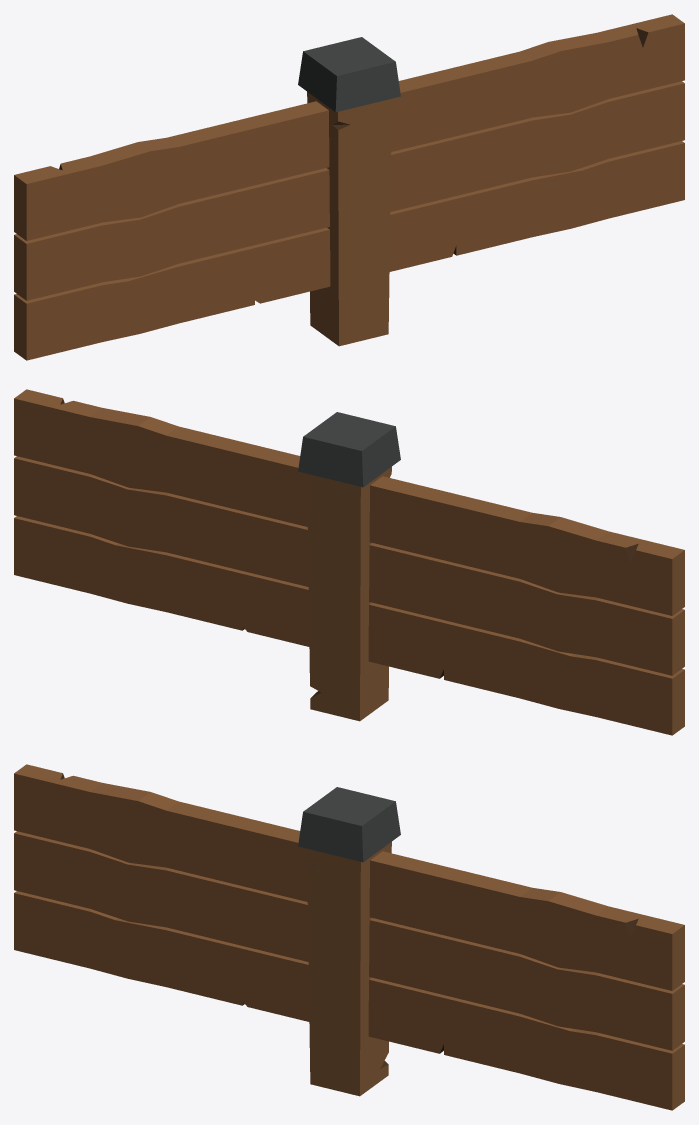
The model's file is Fence_6_Light_Brown.fbx.
3 views of the same model, one above another, from view 1: azimuth 30°, elevation 25°; view 2: azimuth 150°, elevation 25°; view 3: azimuth 330°, elevation 25° (orthographic).
Visible parts, largest first — view 1: Fence_6_Light_Brown; view 2: Fence_6_Light_Brown; view 3: Fence_6_Light_Brown.
Boxes of the visible parts, bbox=[...] form: Fence_6_Light_Brown: bbox=[14, 14, 684, 360]; Fence_6_Light_Brown: bbox=[14, 389, 684, 735]; Fence_6_Light_Brown: bbox=[14, 764, 684, 1110].
Size of the model in its own units: 242 by 96 by 24.
